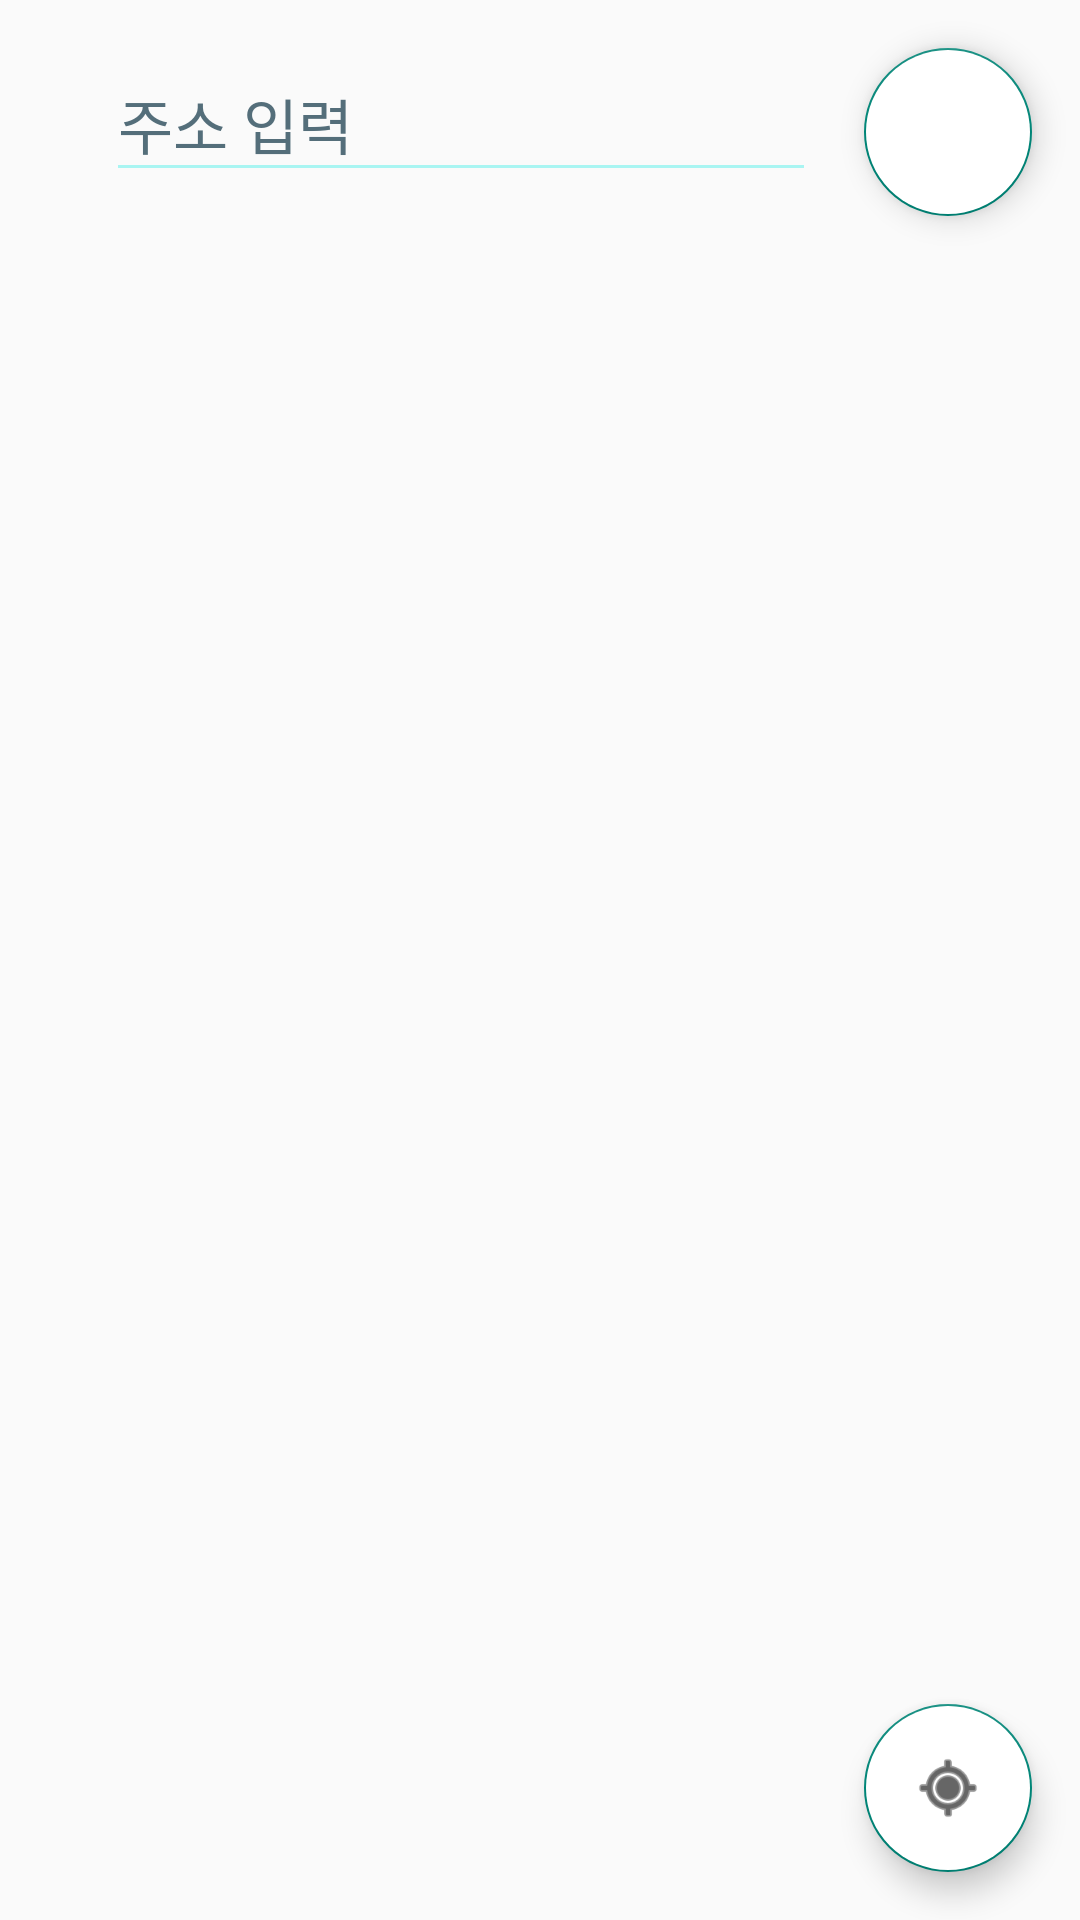

Where icons sit on this 1080x1920 app screen, as (x1, y1, x2, y2):
mylocation: (864, 1704, 1032, 1872)
